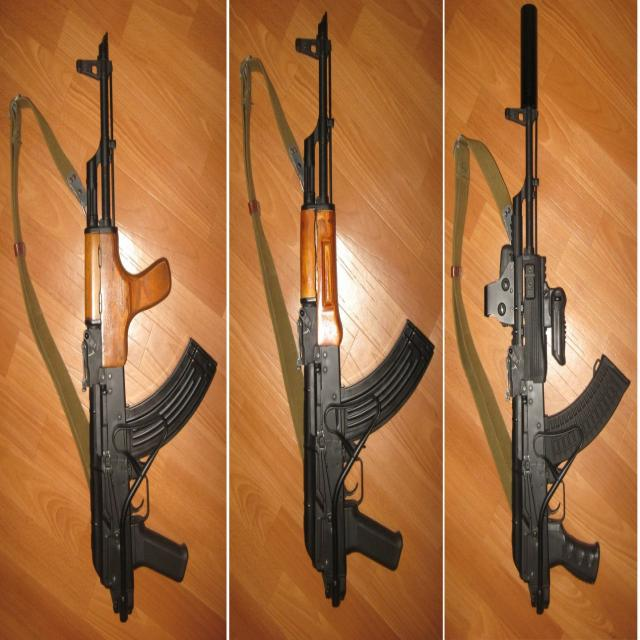firearm: (481, 3, 631, 616), (295, 9, 434, 607), (78, 28, 217, 618)
